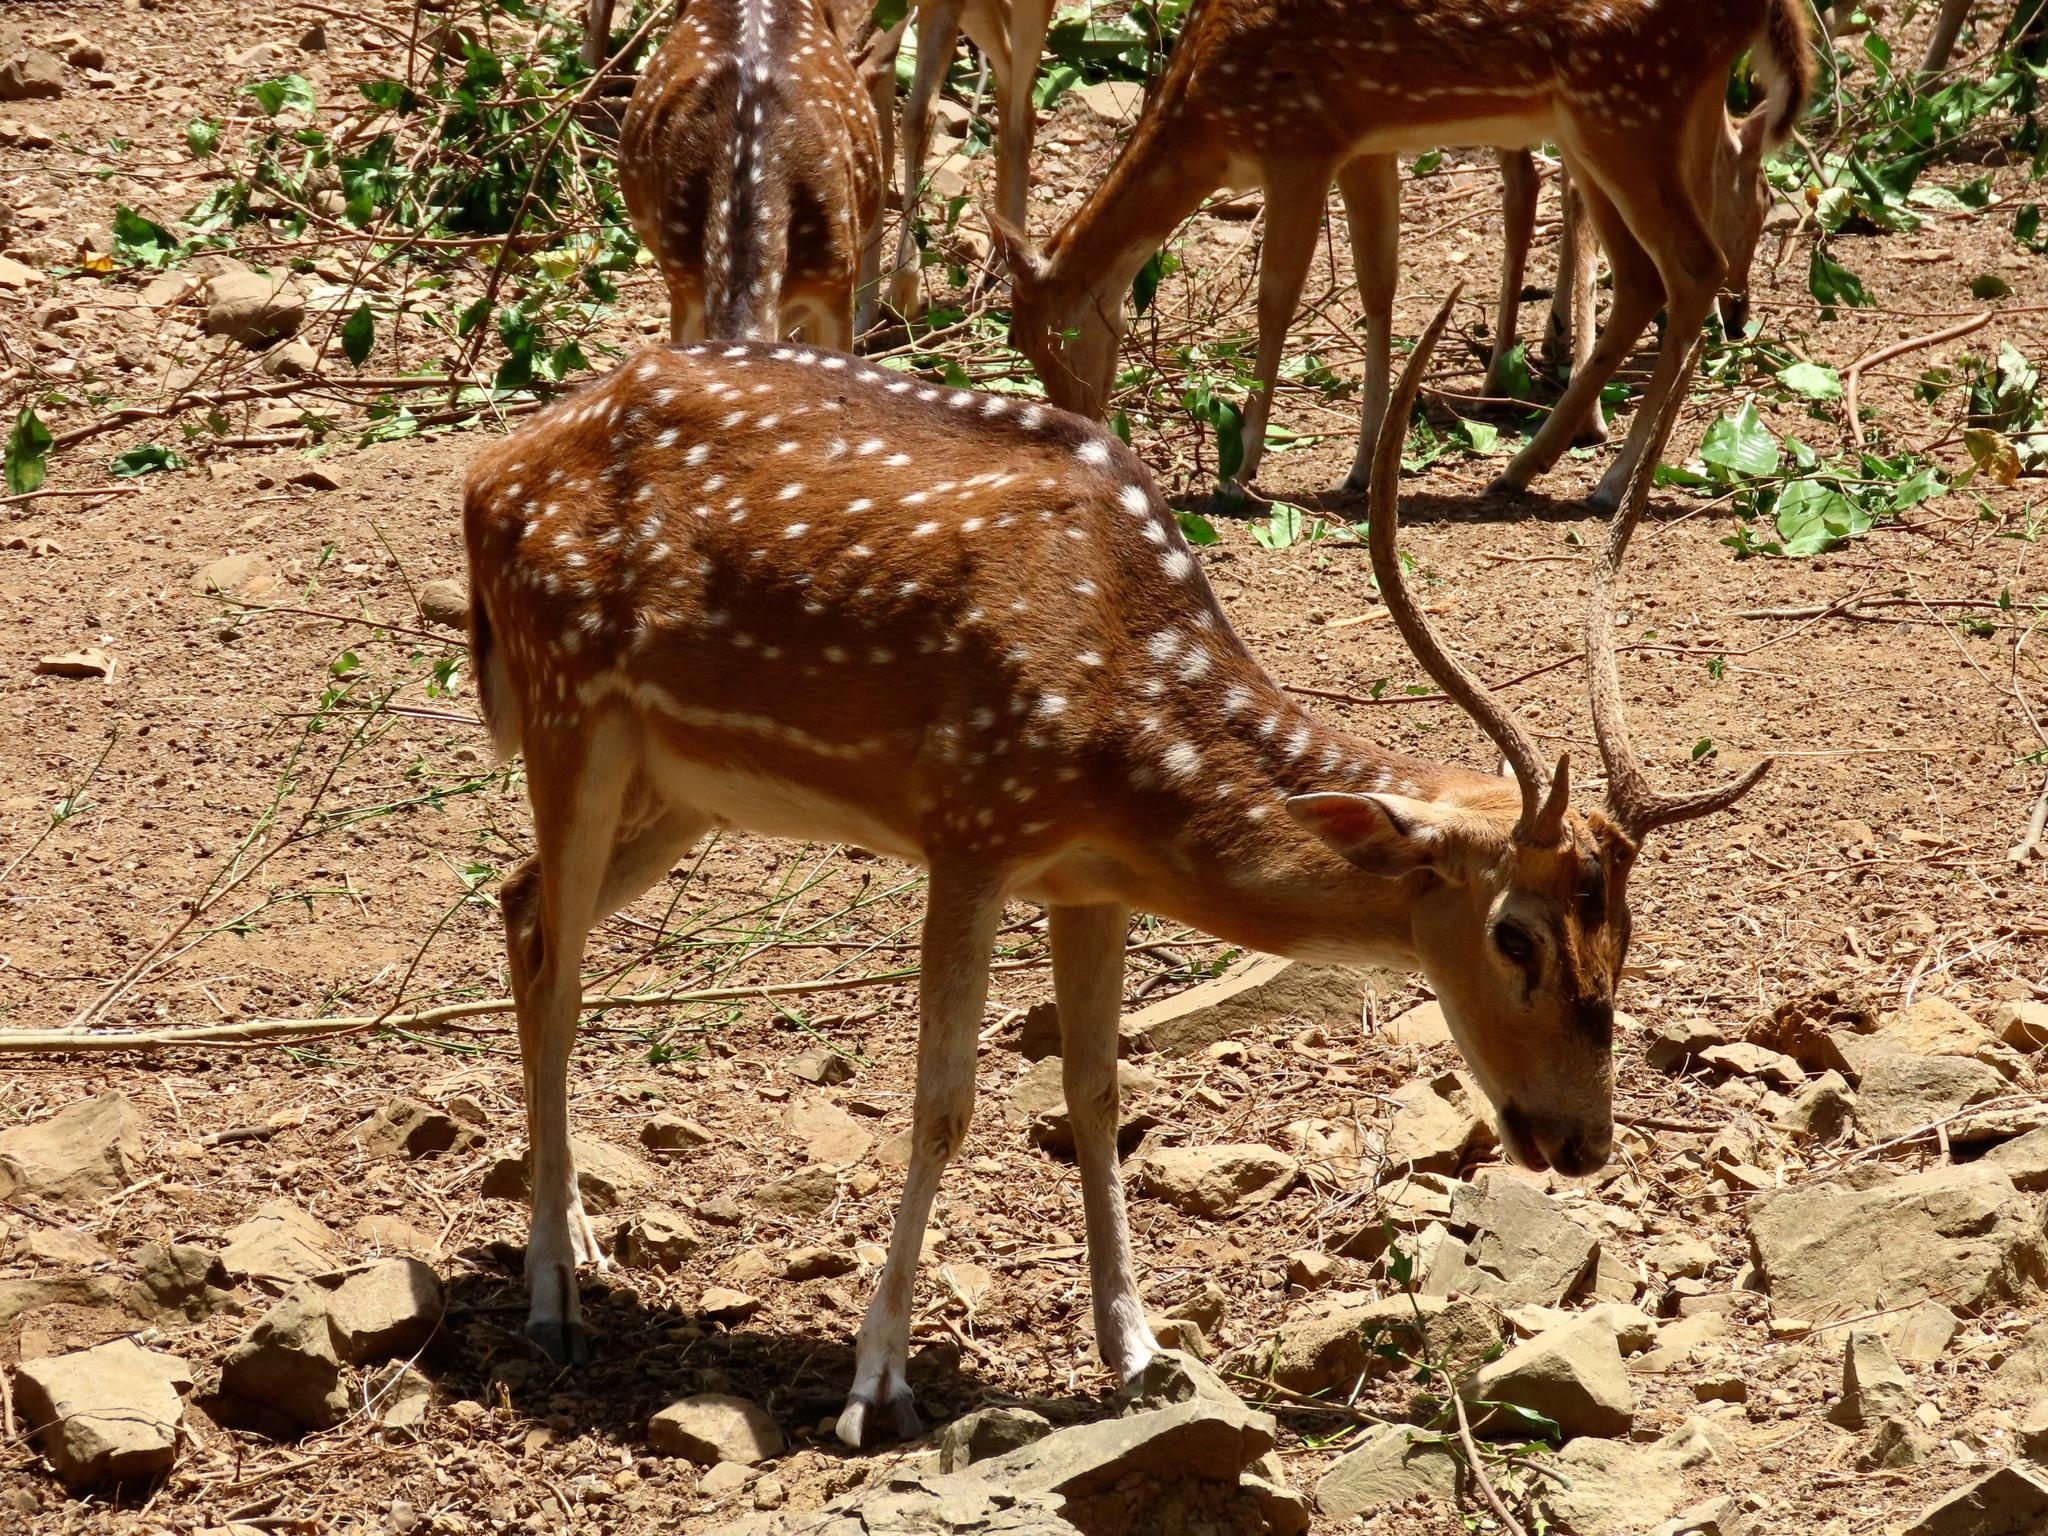Deer: (463, 340, 1767, 1438)
